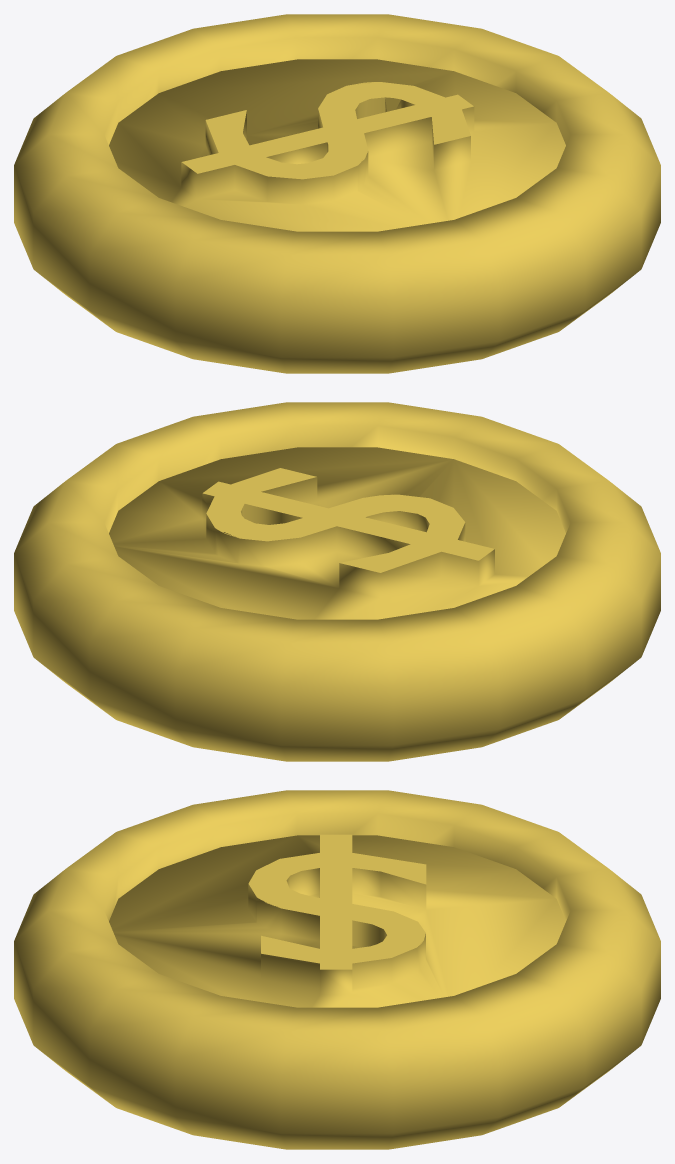
File: coin_new.glb
The picture shows the model from 3 angles, top to bottom: view 1: azimuth 30°, elevation 25°; view 2: azimuth 150°, elevation 25°; view 3: azimuth 270°, elevation 25°; orthographic projection.
Parts seen in each view (by area): view 1: Coin_New; view 2: Coin_New; view 3: Coin_New.
Part boxes in pixels (box(x1,y1,x2,y2)): Coin_New: box(14, 14, 660, 373); Coin_New: box(14, 402, 660, 761); Coin_New: box(14, 790, 660, 1149).
Size of the model in its own units: 1.97 by 0.4302 by 2.
